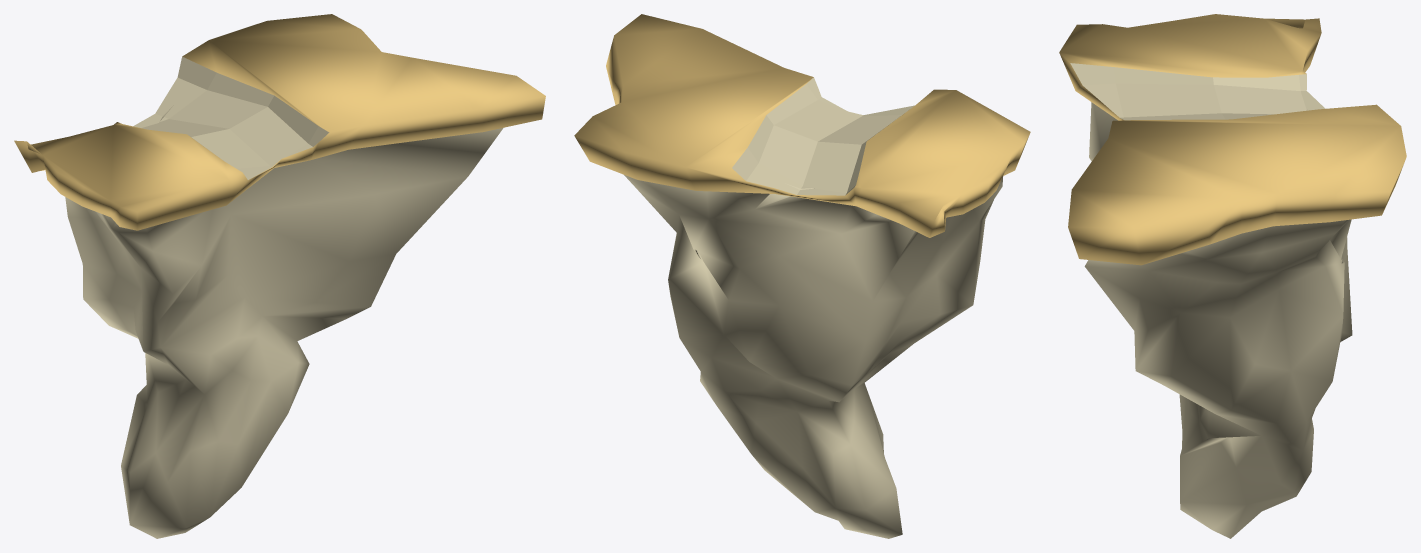
File: ile2.fbx
3 renders of one model, left to right at view 1: azimuth 30°, elevation 25°; view 2: azimuth 150°, elevation 25°; view 3: azimuth 270°, elevation 25°, orthographic. The views are drawn at different scales.
Visible parts, largest first — view 1: Cube; view 2: Cube; view 3: Cube.
Boxes of the visible parts, x1,y1,x2,y2 form: Cube: (14,14,545,538); Cube: (574,14,1030,538); Cube: (1059,14,1406,538).
Size of the model in its own units: 1021 by 945 by 629.
